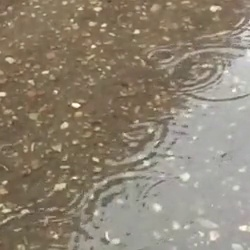drop: (174, 48, 248, 105), (138, 177, 169, 210), (146, 47, 174, 66), (1, 144, 19, 162)
